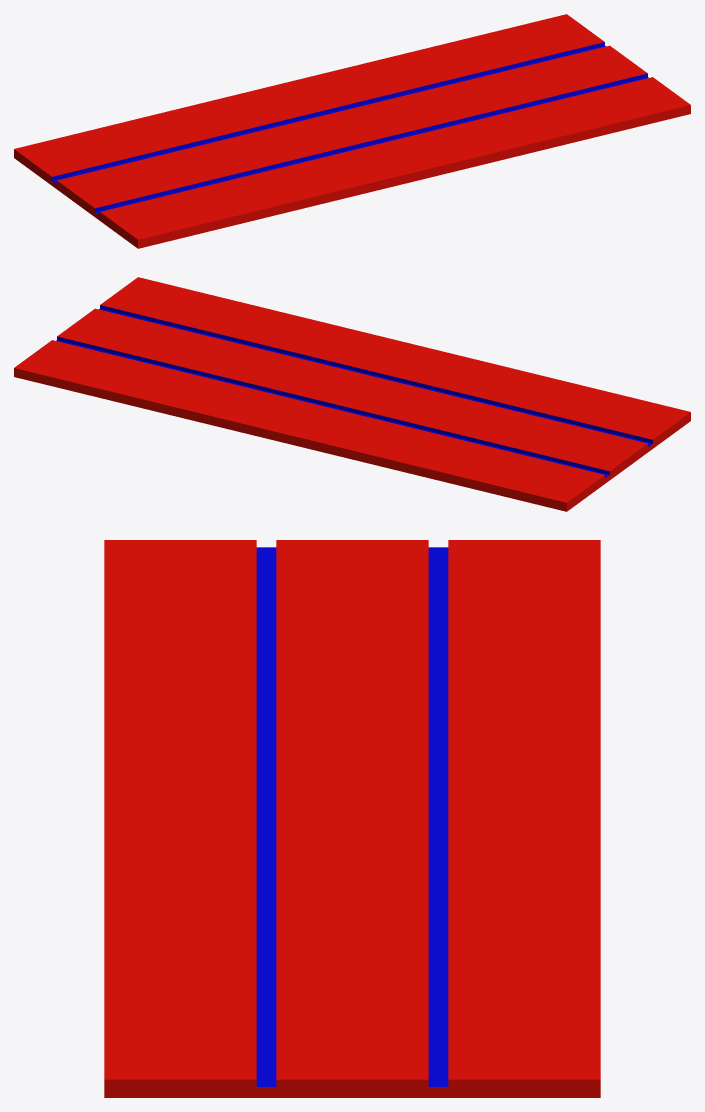
The model's file is TrainTracks.fbx.
The picture shows the model from 3 angles, top to bottom: view 1: azimuth 30°, elevation 25°; view 2: azimuth 150°, elevation 25°; view 3: azimuth 270°, elevation 25°; orthographic projection. The views are drawn at different scales.
Visible parts, largest first — view 1: Plane.010; view 2: Plane.010; view 3: Plane.010.
Boxes of the visible parts, box(x1,y1,x2,y2) form: Plane.010: box(14, 14, 690, 248); Plane.010: box(14, 277, 690, 511); Plane.010: box(104, 540, 600, 1097).
Size of the model in its own units: 1600 by 25 by 622.
